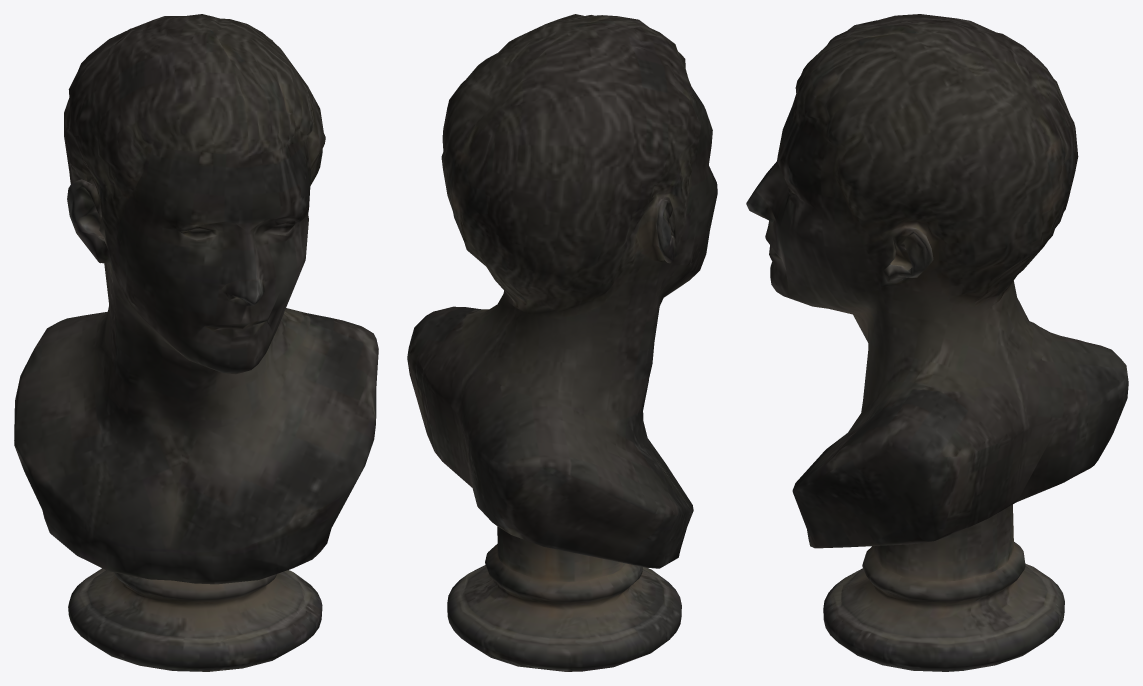
The model's file is marble_bust_01.glb.
3 renders of one model, left to right at view 1: azimuth 30°, elevation 25°; view 2: azimuth 150°, elevation 25°; view 3: azimuth 270°, elevation 25°, orthographic. The views are drawn at different scales.
Visible parts, largest first — view 1: marble_bust_01; view 2: marble_bust_01; view 3: marble_bust_01.
Part boxes in pixels (box(x1,y1,x2,y2)): marble_bust_01: box(14, 14, 378, 671); marble_bust_01: box(407, 14, 717, 671); marble_bust_01: box(746, 14, 1128, 671).
Size of the model in its own units: 0.2718 by 0.5148 by 0.2997.
Materials: 1 (1 with a texture image).
